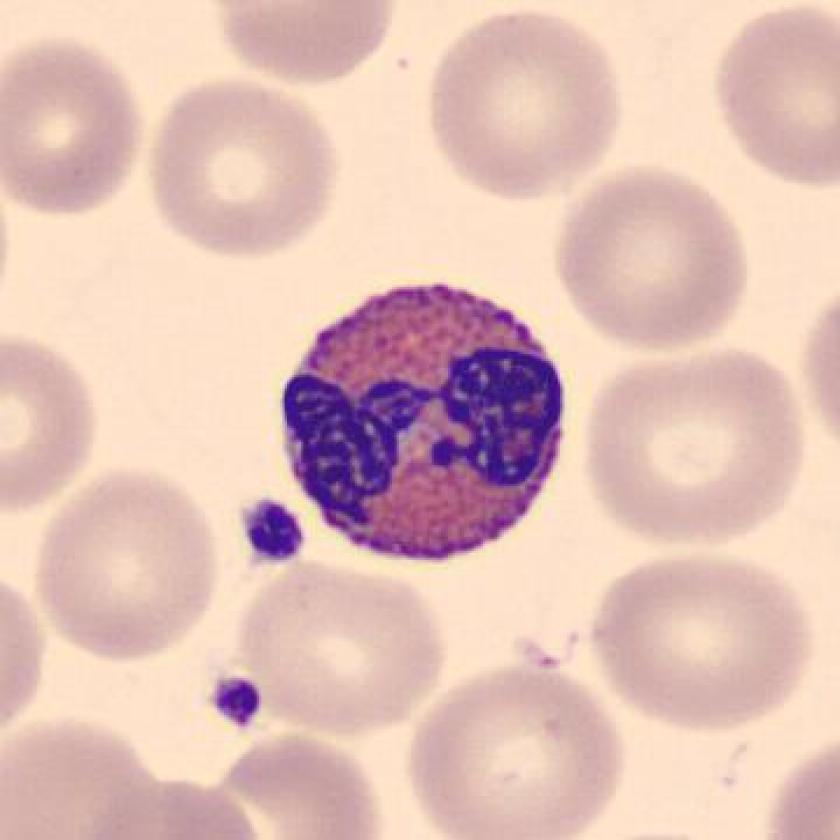eosinophil: (267, 262, 582, 575)
